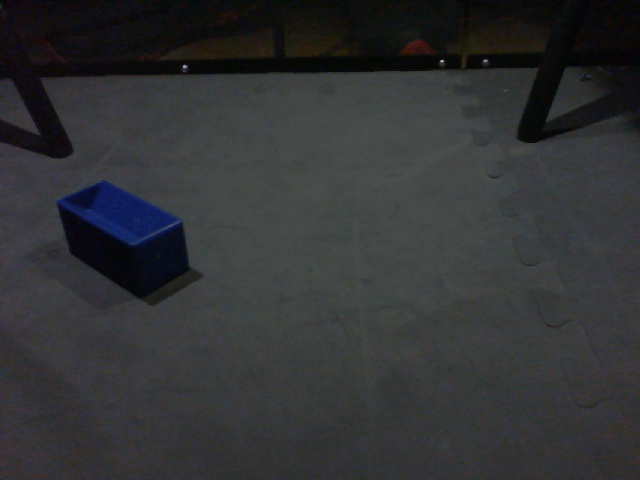BlueSample: (54, 176, 194, 303)
